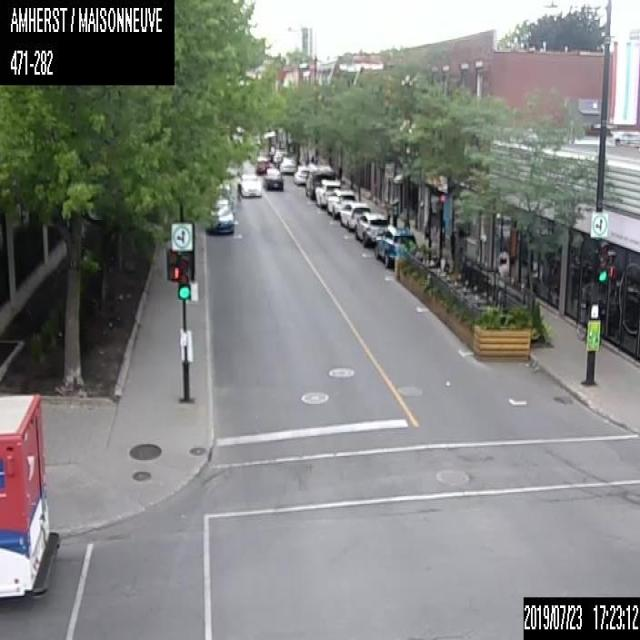vehicle: (0, 392, 62, 597), (374, 224, 416, 269), (355, 212, 388, 248), (305, 167, 335, 204), (340, 200, 370, 229), (327, 189, 355, 219), (314, 179, 341, 210), (211, 207, 233, 233), (238, 171, 260, 195), (263, 168, 283, 187), (292, 164, 308, 183), (278, 156, 294, 174), (254, 154, 268, 172)
